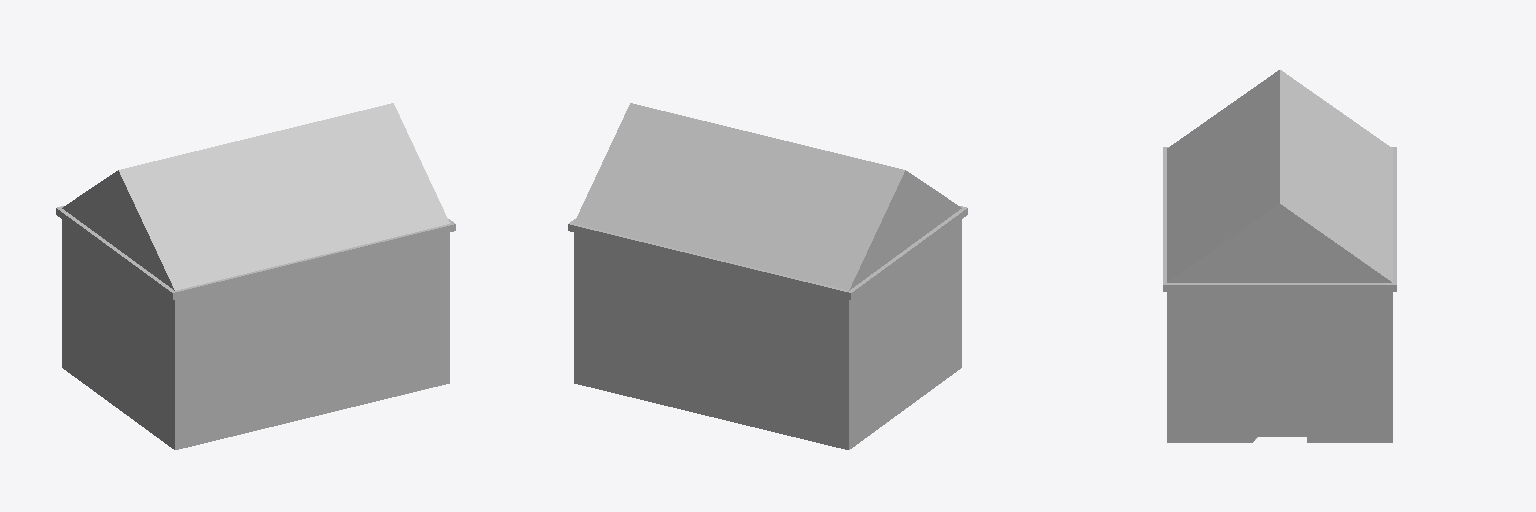
File: Small_House.obj
3 renders of one model, left to right at view 1: azimuth 30°, elevation 25°; view 2: azimuth 150°, elevation 25°; view 3: azimuth 270°, elevation 25°, orthographic.
Visible parts, largest first — view 1: pCube12; view 2: pCube12; view 3: pCube12.
Part boxes in pixels (bbox=[...]): pCube12: bbox=[56, 103, 455, 449]; pCube12: bbox=[568, 103, 967, 449]; pCube12: bbox=[1163, 70, 1396, 442].
Size of the model in its own units: 10.94 by 8.82 by 7.8.